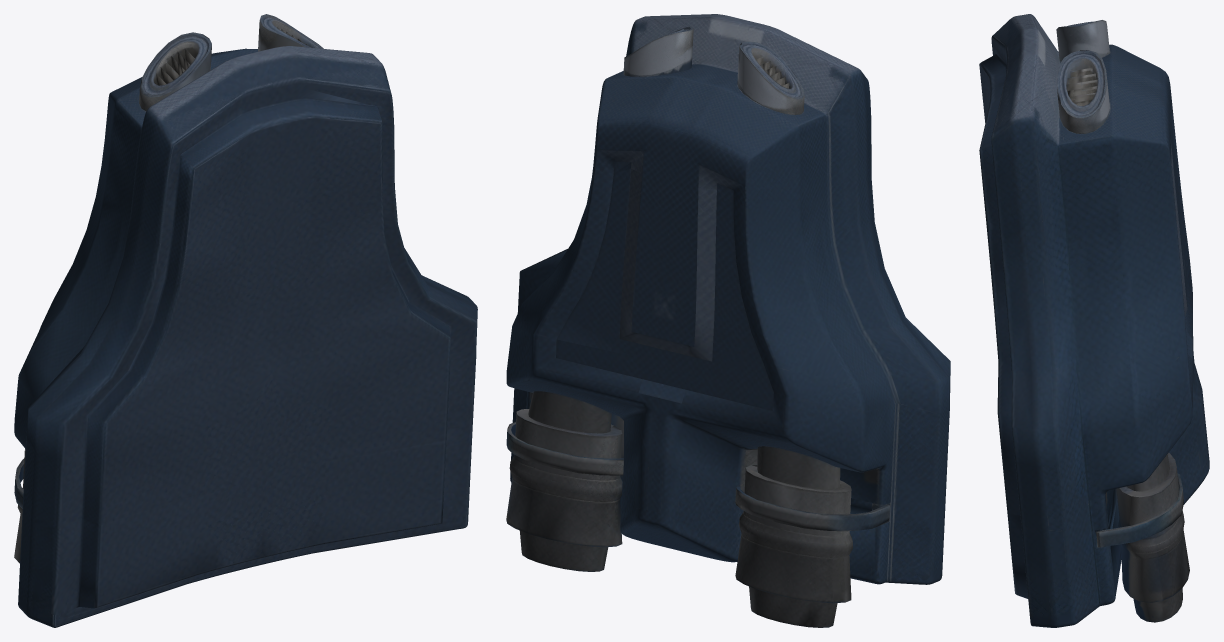
The model's file is DM_Jetpack.fbx.
3 renders of one model, left to right at view 1: azimuth 30°, elevation 25°; view 2: azimuth 150°, elevation 25°; view 3: azimuth 270°, elevation 25°, orthographic. The views are drawn at different scales.
Parts seen in each view (by area): view 1: mesh_node; view 2: mesh_node; view 3: mesh_node.
Boxes of the visible parts, x1=… form: mesh_node: x1=14, y1=14, x2=477, y2=627; mesh_node: x1=506, y1=14, x2=950, y2=627; mesh_node: x1=979, y1=14, x2=1209, y2=627.
Bounding box in the file's own units: 167 × 200 × 80.77.
1 material, 1 textured.
